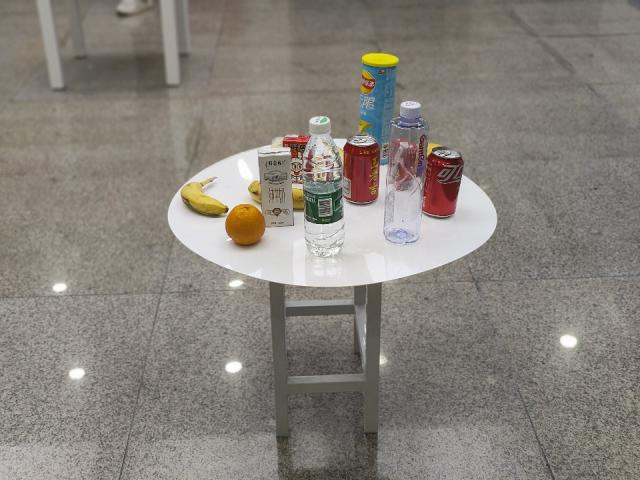Canned_drinks: (346, 138, 385, 208), (427, 148, 461, 216)
bottle: (306, 114, 348, 254), (391, 102, 418, 246)
cylinder: (363, 54, 392, 142)
drink_box: (260, 149, 296, 222)
